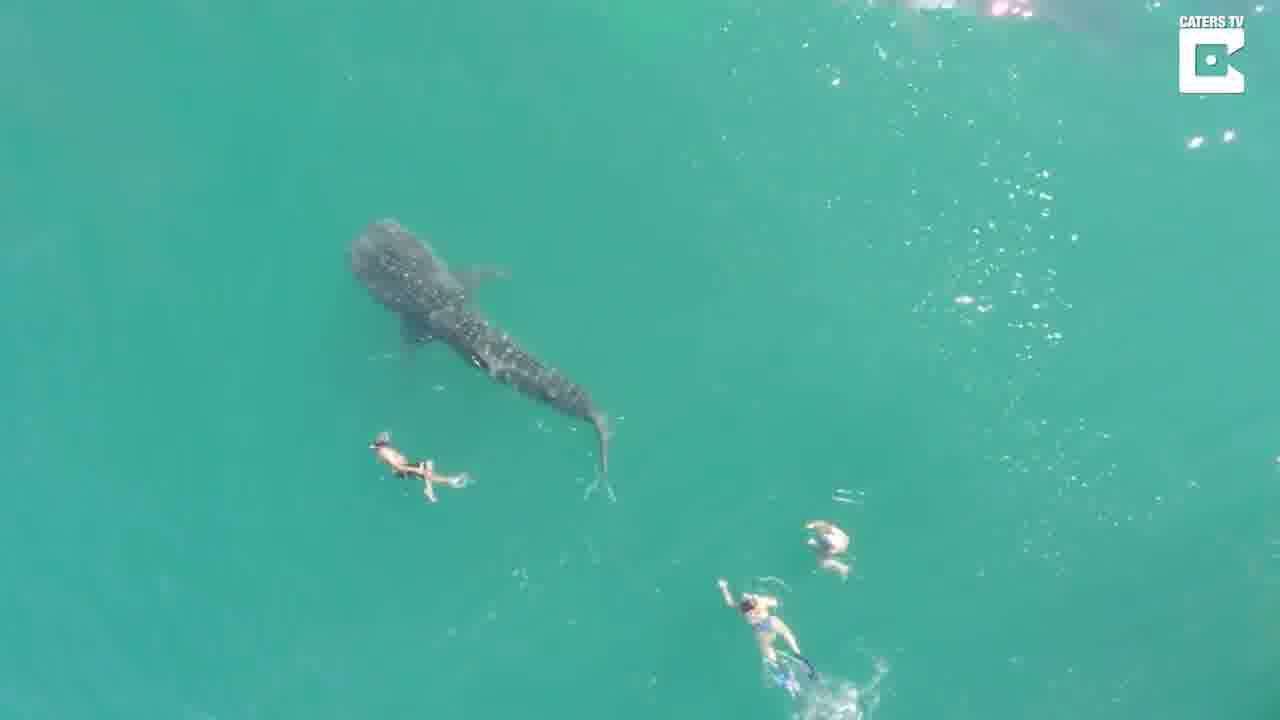human: (720, 575, 813, 702), (367, 426, 475, 509), (801, 518, 859, 581)
